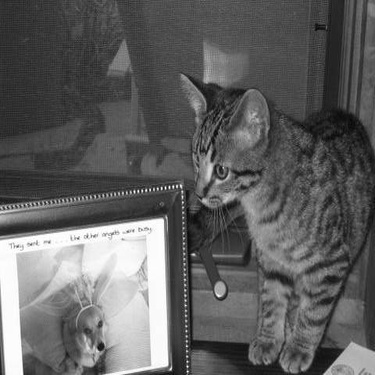cat: (178, 56, 371, 373)
